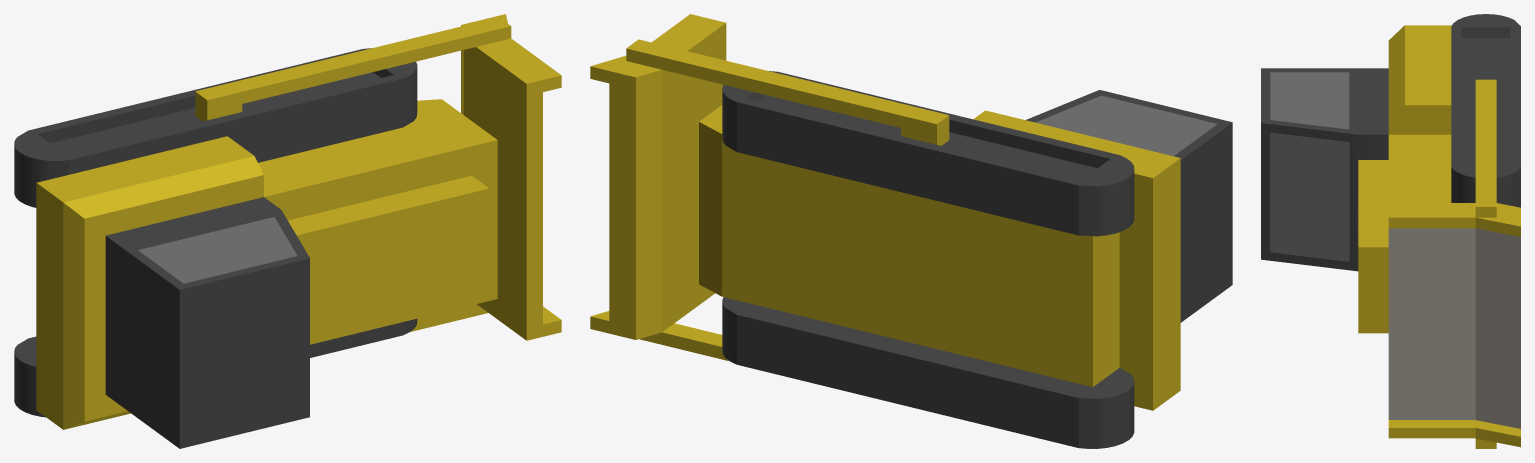
The model's file is dozer.dae.
3 views of the same model, side by side, from view 1: azimuth 30°, elevation 25°; view 2: azimuth 150°, elevation 25°; view 3: azimuth 270°, elevation 25° (orthographic). The views are drawn at different scales.
Parts seen in each view (by area): view 1: coords_ME_ID33_MA___auto_7, coords_ME_ID61_MA___auto_, coords_ME_ID11_MA___auto_7, coords_ME_ID19_MA___auto_, coords_ME_ID39_MA___auto_51, coords_ME_ID3_MA___auto_; view 2: coords_ME_ID33_MA___auto_7, coords_ME_ID11_MA___auto_7, coords_ME_ID19_MA___auto_, coords_ME_ID3_MA___auto_, coords_ME_ID61_MA___auto_, coords_ME_ID39_MA___auto_51, coords_ME_ID105_MA___auto_7; view 3: coords_ME_ID53_MA___auto_24, coords_ME_ID33_MA___auto_7, coords_ME_ID19_MA___auto_, coords_ME_ID123_MA___auto_51, coords_ME_ID11_MA___auto_7, coords_ME_ID61_MA___auto_, coords_ME_ID39_MA___auto_51, coords_ME_ID171_MA_material.
Part boxes in pixels (left/top/right/bottom): coords_ME_ID33_MA___auto_7: left=36, top=99, right=497, bottom=429; coords_ME_ID61_MA___auto_: left=105, top=197, right=309, bottom=448; coords_ME_ID11_MA___auto_7: left=195, top=14, right=561, bottom=340; coords_ME_ID19_MA___auto_: left=14, top=48, right=417, bottom=207; coords_ME_ID39_MA___auto_51: left=138, top=217, right=297, bottom=283; coords_ME_ID3_MA___auto_: left=14, top=318, right=417, bottom=417; coords_ME_ID33_MA___auto_7: left=699, top=105, right=1180, bottom=410; coords_ME_ID11_MA___auto_7: left=590, top=14, right=949, bottom=360; coords_ME_ID19_MA___auto_: left=722, top=71, right=1134, bottom=236; coords_ME_ID3_MA___auto_: left=722, top=297, right=1134, bottom=448; coords_ME_ID61_MA___auto_: left=1025, top=90, right=1232, bottom=322; coords_ME_ID39_MA___auto_51: left=1036, top=95, right=1216, bottom=156; coords_ME_ID105_MA___auto_7: left=662, top=323, right=722, bottom=346; coords_ME_ID53_MA___auto_24: left=1388, top=228, right=1520, bottom=428; coords_ME_ID33_MA___auto_7: left=1358, top=25, right=1451, bottom=333; coords_ME_ID19_MA___auto_: left=1451, top=14, right=1520, bottom=207; coords_ME_ID123_MA___auto_51: left=1270, top=132, right=1349, bottom=261; coords_ME_ID11_MA___auto_7: left=1388, top=79, right=1520, bottom=448; coords_ME_ID61_MA___auto_: left=1261, top=68, right=1388, bottom=271; coords_ME_ID39_MA___auto_51: left=1270, top=72, right=1349, bottom=129; coords_ME_ID171_MA_material: left=1461, top=27, right=1510, bottom=37.
Bounding box in the file's own units: 46.87 × 24.71 × 24.07.
